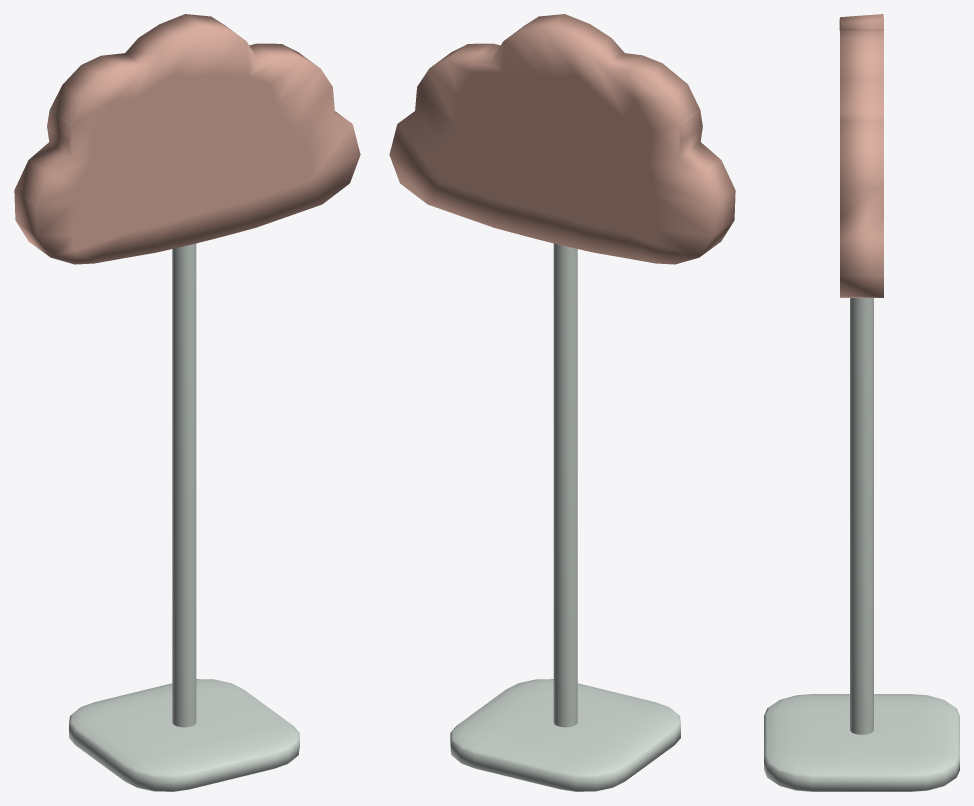
File: Wolke.fbx
The picture shows the model from 3 angles, left to right: view 1: azimuth 30°, elevation 25°; view 2: azimuth 150°, elevation 25°; view 3: azimuth 270°, elevation 25°; orthographic projection.
Visible parts, largest first — view 1: Plane, Roundcube.003, Cylinder; view 2: Plane, Roundcube.003, Cylinder; view 3: Roundcube.003, Plane, Cylinder.
Boxes of the visible parts, <box> form: Plane: <box>14,14,360,264</box>; Roundcube.003: <box>69,679,299,791</box>; Cylinder: <box>172,243,196,727</box>; Plane: <box>389,14,735,264</box>; Roundcube.003: <box>450,679,680,791</box>; Cylinder: <box>553,243,577,727</box>; Roundcube.003: <box>764,694,959,791</box>; Plane: <box>839,14,883,297</box>; Cylinder: <box>850,298,873,734</box>.
Size of the model in its own units: 167 by 356 by 87.4.
1 material, 1 textured.
